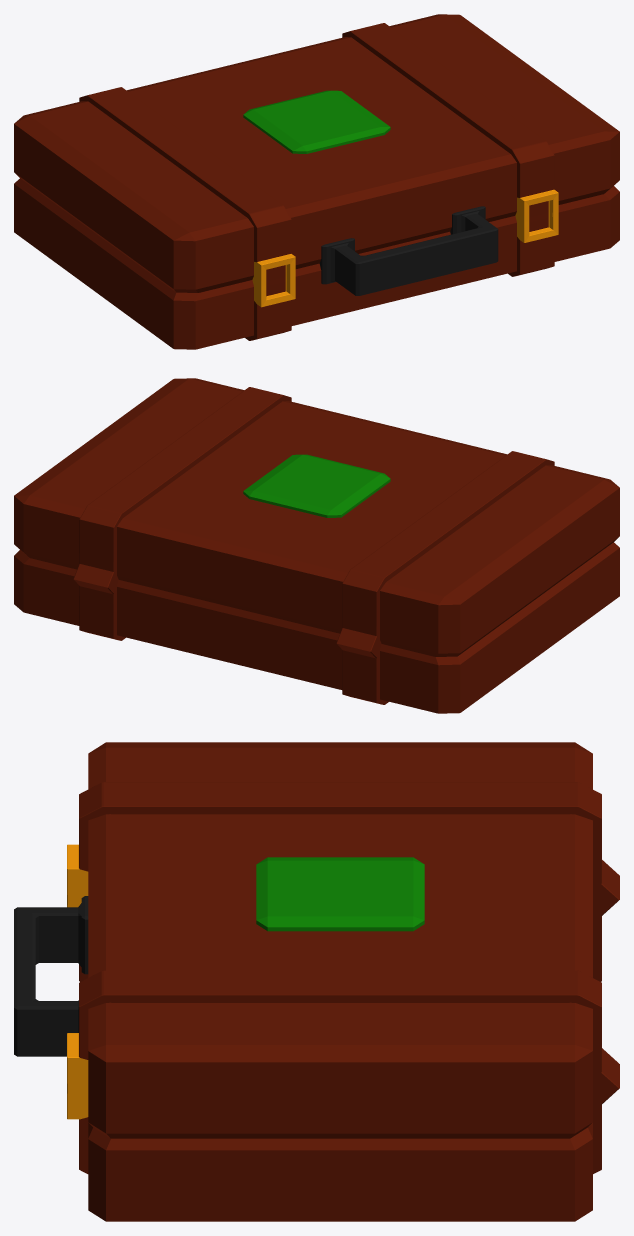
The model's file is itembox.FBX.
3 views of the same model, one above another, from view 1: azimuth 30°, elevation 25°; view 2: azimuth 150°, elevation 25°; view 3: azimuth 270°, elevation 25° (orthographic). The views are drawn at different scales.
Visible parts, largest first — view 1: Cube, Cube.001, Cube.003, Cube.002; view 2: Cube, Cube.001, Cube.002; view 3: Cube, Cube.001, Cube.002, Cube.003.
Boxes of the visible parts, x1,y1,x2,y2 form: Cube: (14, 14, 619, 349); Cube.001: (79, 23, 558, 340); Cube.003: (319, 206, 498, 295); Cube.002: (243, 90, 390, 153); Cube: (14, 378, 619, 713); Cube.001: (73, 387, 554, 704); Cube.002: (243, 454, 390, 517); Cube: (88, 742, 592, 1221); Cube.001: (67, 782, 619, 1173); Cube.002: (256, 857, 424, 931); Cube.003: (14, 896, 88, 1056).
Bounding box in the file's own units: 236 × 64.37 × 189.
